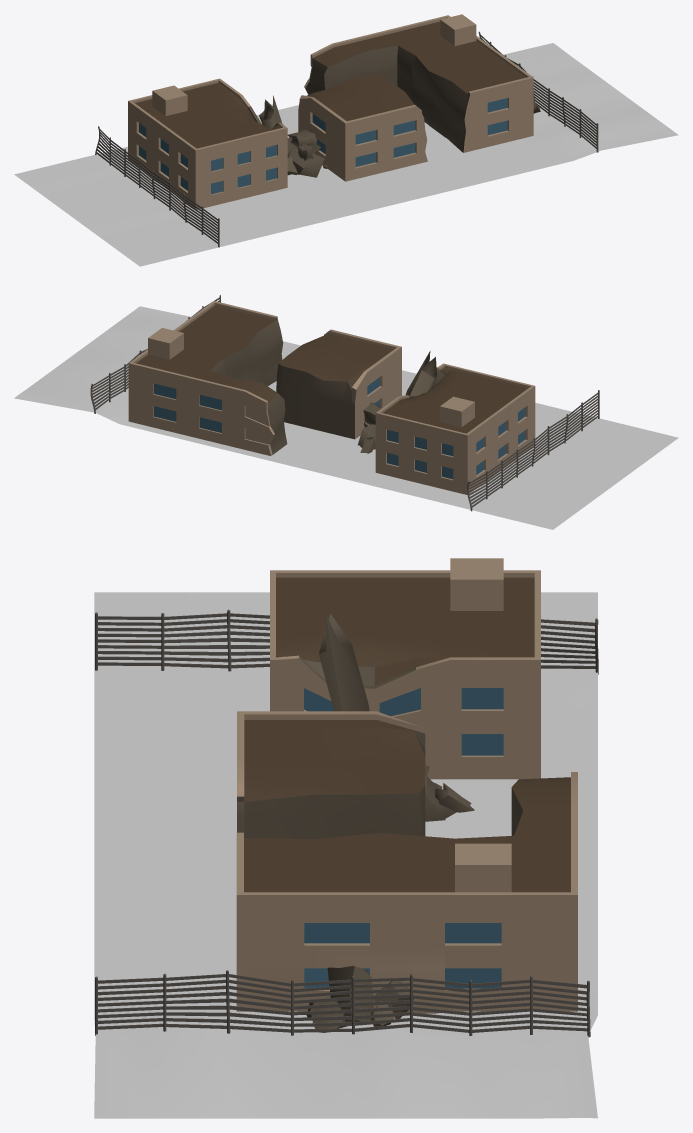
The model's file is apartment_pathway_build_03.fbx.
3 views of the same model, one above another, from view 1: azimuth 30°, elevation 25°; view 2: azimuth 150°, elevation 25°; view 3: azimuth 270°, elevation 25° (orthographic). The views are drawn at different scales.
Visible parts, largest first — view 1: apartment_block, generic_apartment_3, generic_apartment_2, metal_fence48, rubble_2; view 2: generic_apartment_3, apartment_block, generic_apartment_2, metal_fence48, rubble_2; view 3: apartment_block, generic_apartment_3, generic_apartment_2, metal_fence48, rubble_2, rubble_3.
Part boxes in pixels (box(x1,y1,x2,y2)): apartment_block: box(14, 43, 678, 266); generic_apartment_3: box(298, 14, 533, 181); generic_apartment_2: box(128, 78, 287, 209); metal_fence48: box(95, 31, 598, 247); rubble_2: box(259, 95, 327, 177); generic_apartment_3: box(128, 301, 401, 455); apartment_block: box(14, 306, 678, 529); generic_apartment_2: box(375, 363, 535, 494); metal_fence48: box(90, 295, 599, 511); rubble_2: box(358, 351, 436, 453); apartment_block: box(94, 592, 597, 1118); generic_apartment_3: box(236, 711, 577, 1013); generic_apartment_2: box(270, 558, 540, 779); metal_fence48: box(95, 609, 598, 1037); rubble_2: box(319, 613, 474, 821); rubble_3: box(306, 965, 413, 1032).
Bounding box in the file's own units: 2100 × 374 × 851.
